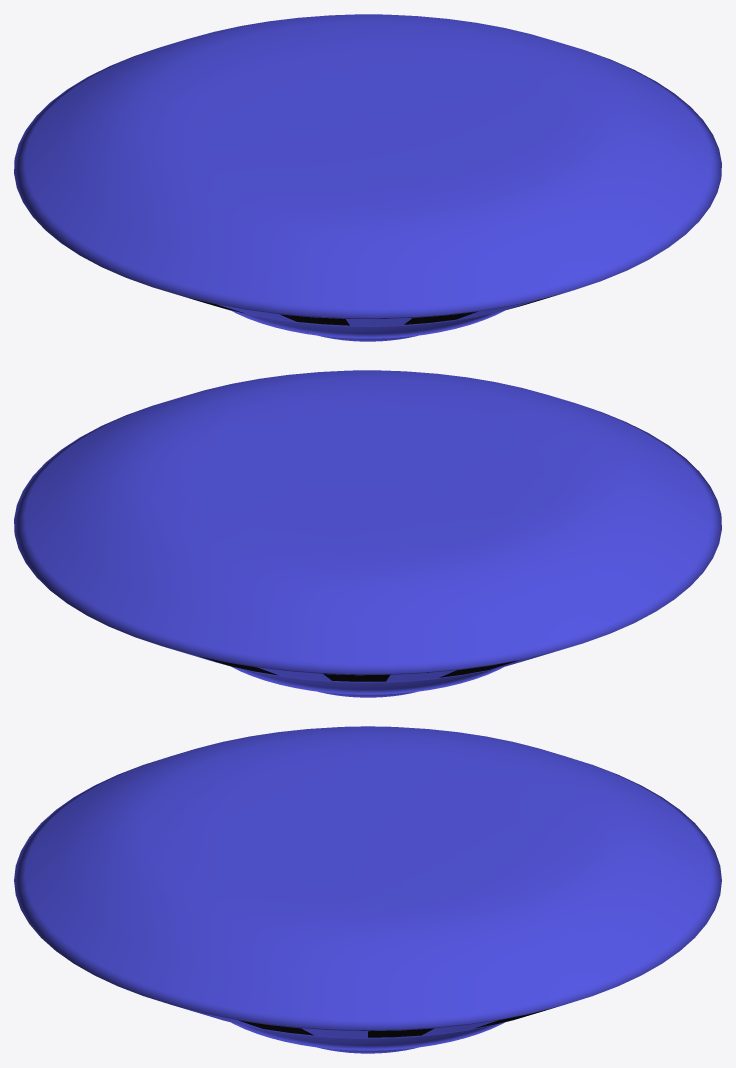
The model's file is UFO.fbx.
The picture shows the model from 3 angles, top to bottom: view 1: azimuth 30°, elevation 25°; view 2: azimuth 150°, elevation 25°; view 3: azimuth 270°, elevation 25°; orthographic projection.
Visible parts, largest first — view 1: Sphere; view 2: Sphere; view 3: Sphere.
Boxes of the visible parts, box(x1,y1,x2,y2) form: Sphere: box(14, 14, 721, 341); Sphere: box(14, 370, 721, 697); Sphere: box(14, 726, 721, 1053).
Bounding box in the file's own units: 3.4 × 0.9794 × 3.4.
